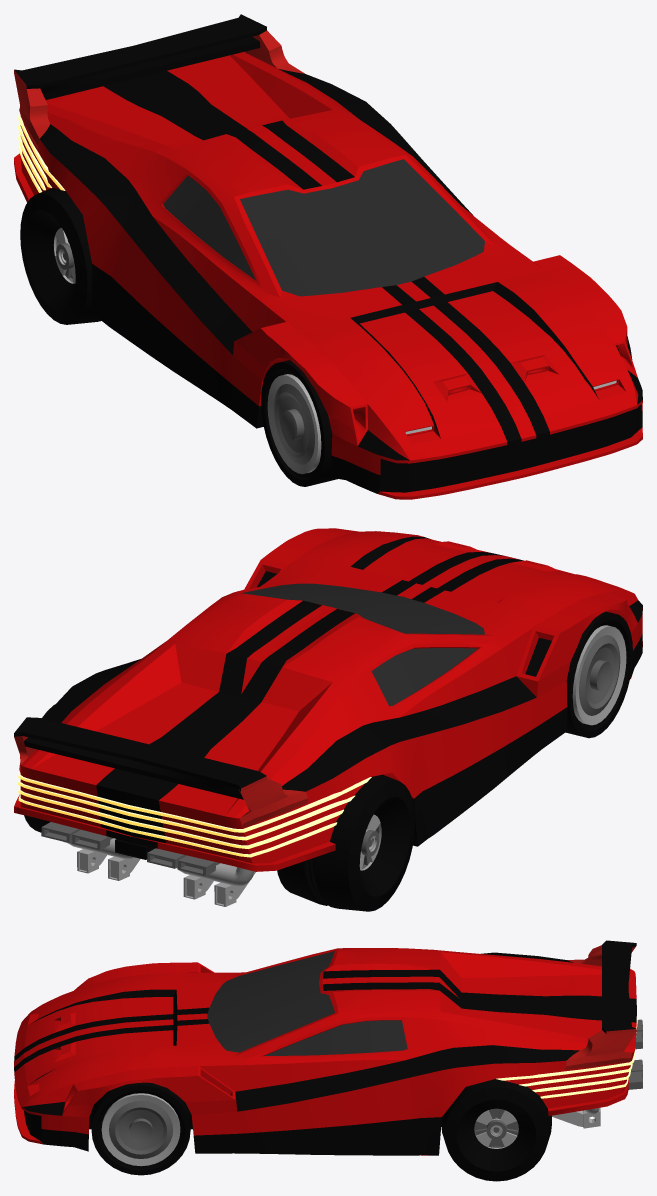
Rendered from Cyberpunk Car - lvl 1, 2.fbx.
The picture shows the model from 3 angles, top to bottom: view 1: azimuth 30°, elevation 25°; view 2: azimuth 150°, elevation 25°; view 3: azimuth 270°, elevation 25°; orthographic projection. The views are drawn at different scales.
Parts seen in each view (by area): view 1: main car, hood, spoiler, Air intake, back wheels, front wheels, bavk lights; view 2: main car, back wheels, spoiler, Air intake, hood, front wheels, bavk lights, back detail, muffler, another back detail; view 3: main car, back wheels, hood, front wheels, Air intake, spoiler, bavk lights, back detail, muffler.
Boxes of the visible parts, bbox=[...] form: main car: bbox=[14, 52, 642, 499]; hood: bbox=[360, 291, 599, 438]; spoiler: bbox=[14, 14, 304, 150]; Air intake: bbox=[233, 255, 637, 446]; back wheels: bbox=[20, 188, 100, 324]; front wheels: bbox=[261, 336, 632, 486]; bavk lights: bbox=[18, 114, 65, 192]; main car: bbox=[14, 531, 642, 871]; back wheels: bbox=[24, 704, 415, 911]; spoiler: bbox=[14, 717, 308, 827]; Air intake: bbox=[244, 528, 637, 697]; hood: bbox=[363, 538, 574, 602]; front wheels: bbox=[565, 611, 632, 738]; bavk lights: bbox=[18, 772, 371, 857]; back detail: bbox=[77, 849, 255, 906]; muffler: bbox=[41, 822, 220, 876]; another back detail: bbox=[67, 838, 253, 885]; main car: bbox=[14, 948, 636, 1155]; back wheels: bbox=[441, 1079, 551, 1181]; hood: bbox=[24, 997, 173, 1085]; front wheels: bbox=[91, 1082, 190, 1175]; Air intake: bbox=[62, 962, 237, 1117]; spoiler: bbox=[565, 940, 636, 1069]; bavk lights: bbox=[496, 1014, 637, 1098]; back detail: bbox=[552, 1107, 600, 1128]; muffler: bbox=[628, 1019, 642, 1089].
Bounding box in the file's own units: 7.93 × 4.25 × 16.62.
